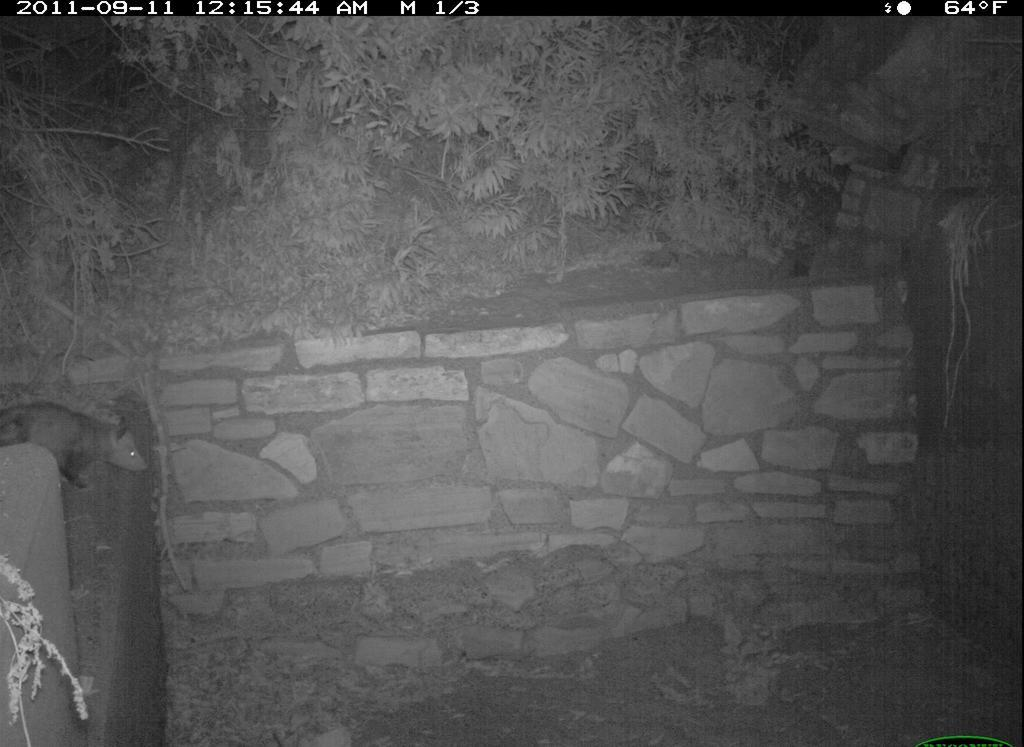opossum: (1, 397, 158, 495)
